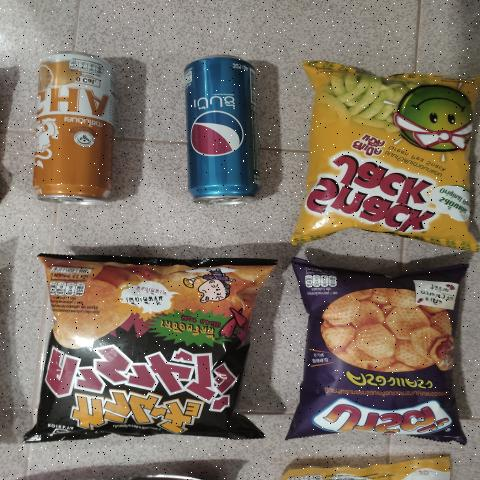karamujo: (43, 264, 266, 442)
party_purple: (313, 266, 460, 446)
pepsi_blue: (178, 55, 260, 204)
singha_yellow: (22, 47, 124, 205)
snack_jack: (307, 60, 478, 239)
